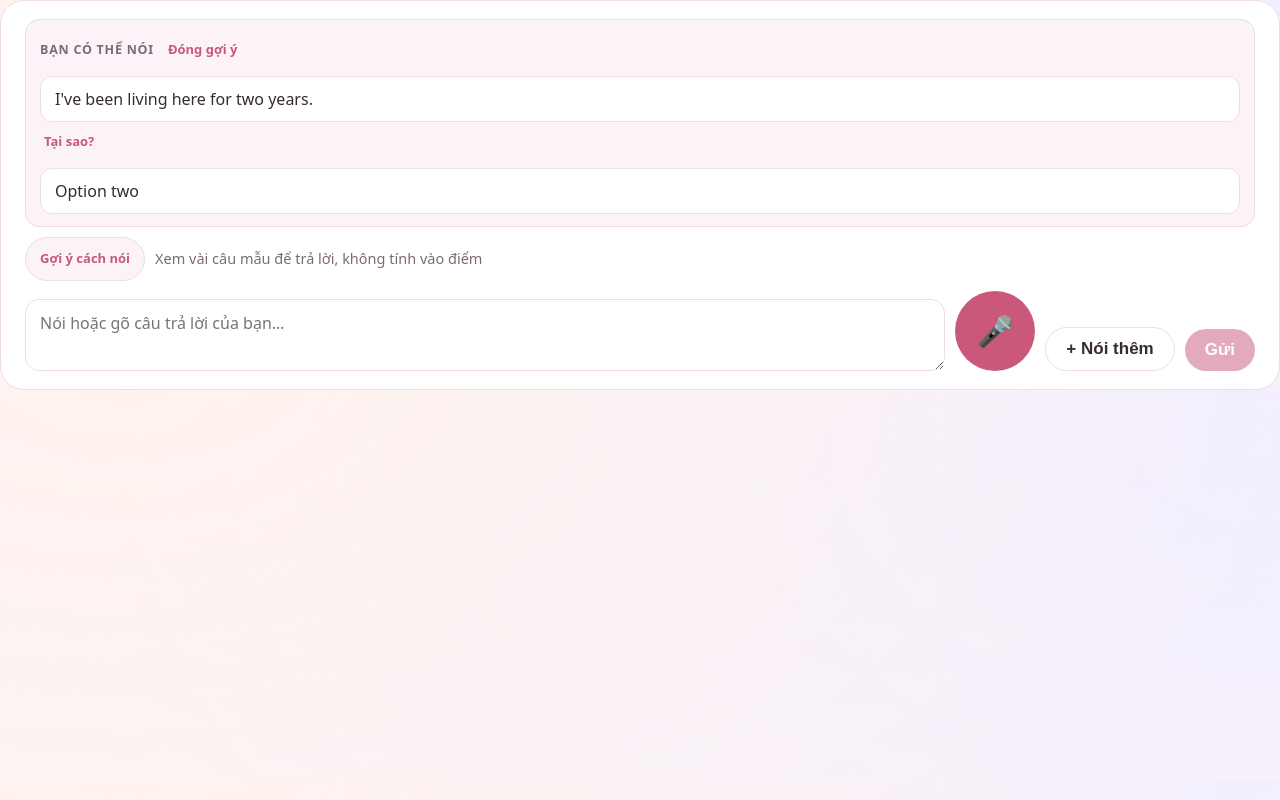
Composer › suggestions: why points stay hidden until toggled
The image size is (1280, 800).
Expected: the text "Việc bắt đầu từ trước" is not shown
Click the button "Tại sao?".
click(69, 142)  # box [40,124,98,160]
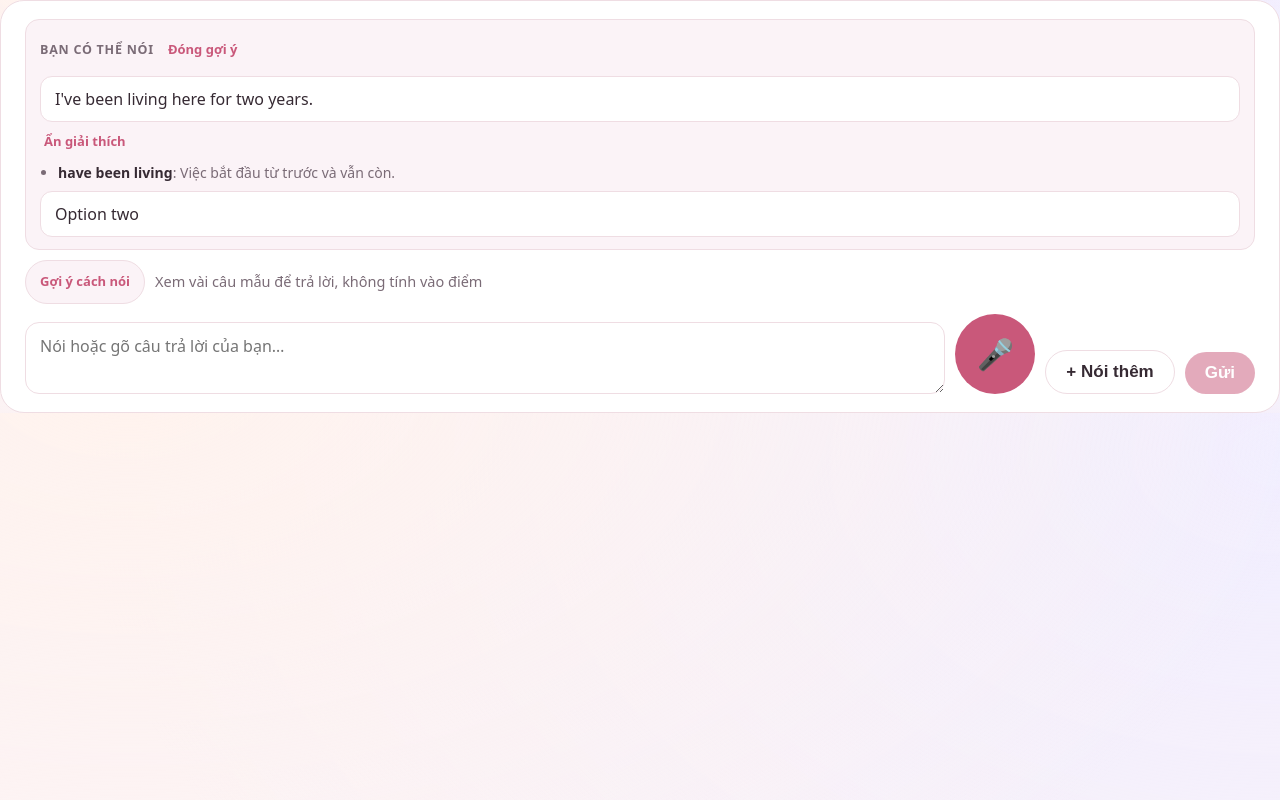
Expected: the list item "have been living: Việc bắt đầu từ trước và vẫn còn." is shown, [58,162,395,183]
Click the button "Ẩn giải thích".
click(85, 142)  # box [40,124,130,160]
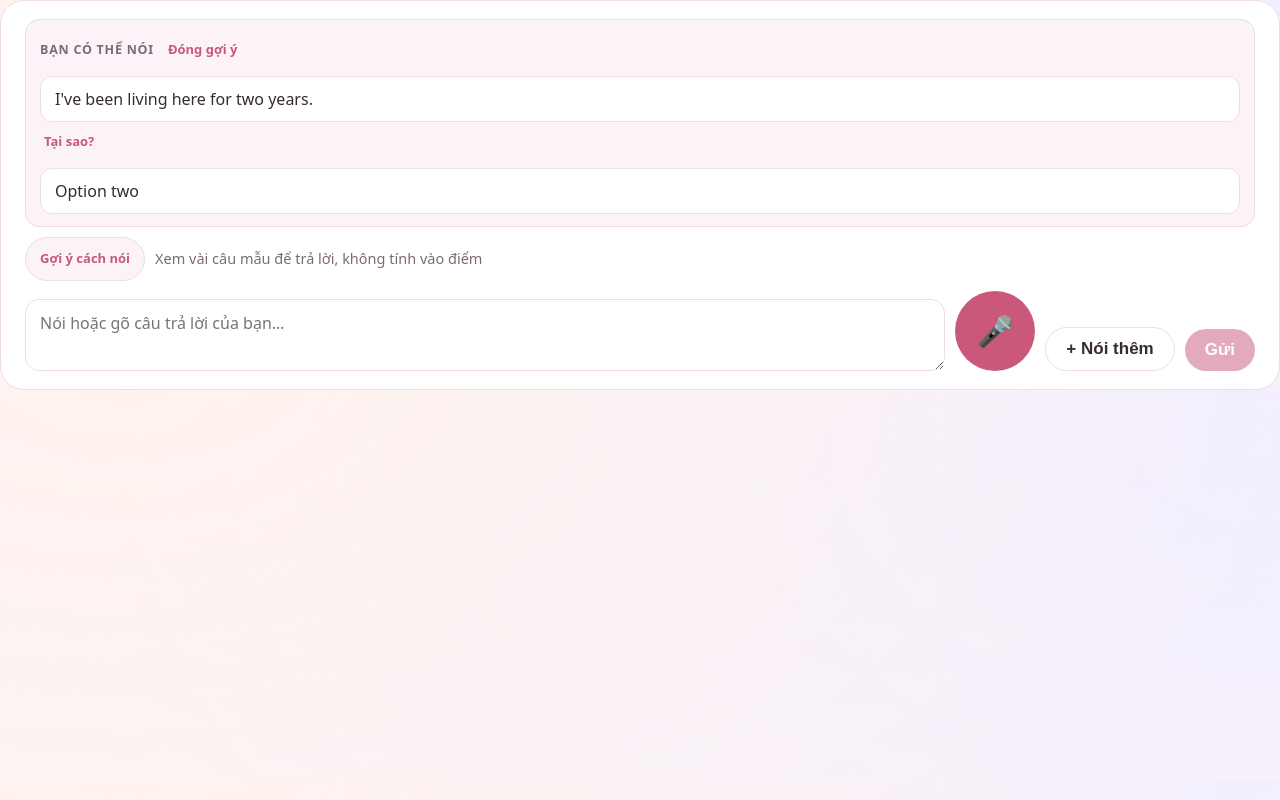
Expected: the list item "Việc bắt đầu từ trước" is gone
